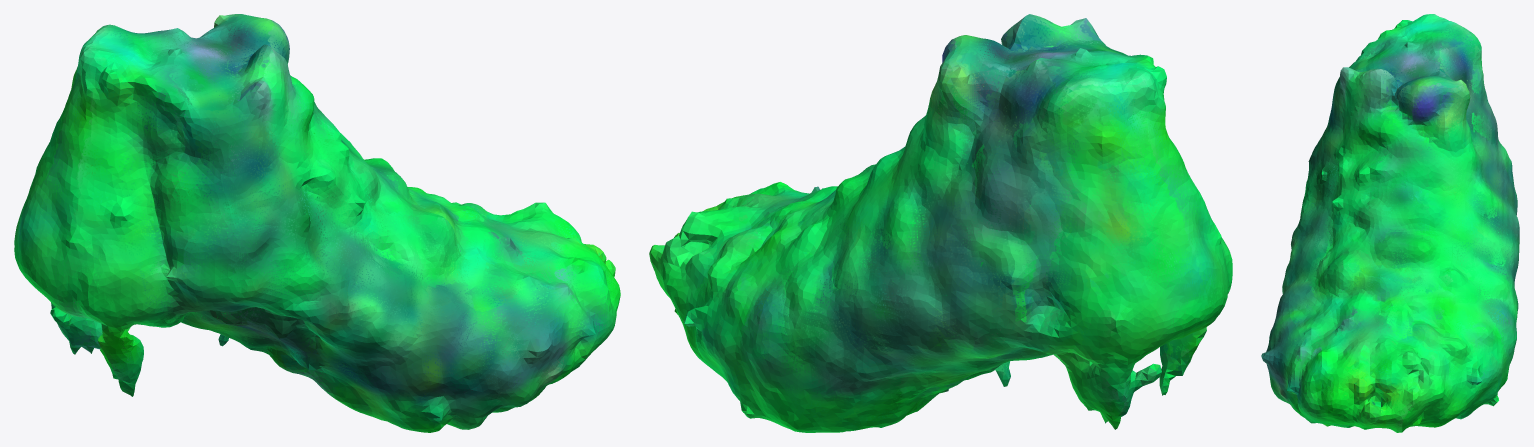
The model's file is underwater_shoes_sds_a_t_shape.glb.
The picture shows the model from 3 angles, left to right: view 1: azimuth 30°, elevation 25°; view 2: azimuth 150°, elevation 25°; view 3: azimuth 270°, elevation 25°; orthographic projection. The views are drawn at different scales.
Bounding box in the file's own units: 1.35 × 0.9177 × 0.7429.
Materials: 1 (1 with a texture image).
